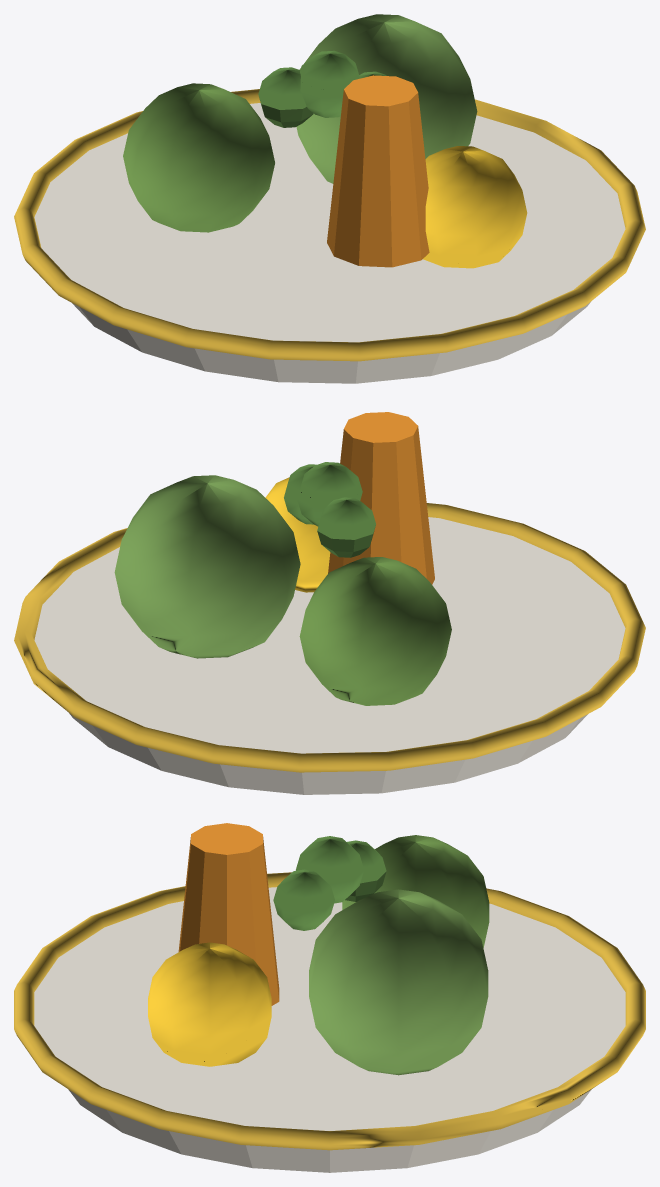
The model's file is mam_ngu_qua.obj.
3 renders of one model, top to bottom at view 1: azimuth 30°, elevation 25°; view 2: azimuth 150°, elevation 25°; view 3: azimuth 270°, elevation 25°, orthographic.
Bounding box in the file's own units: 0.372 × 0.14 × 0.3682.
